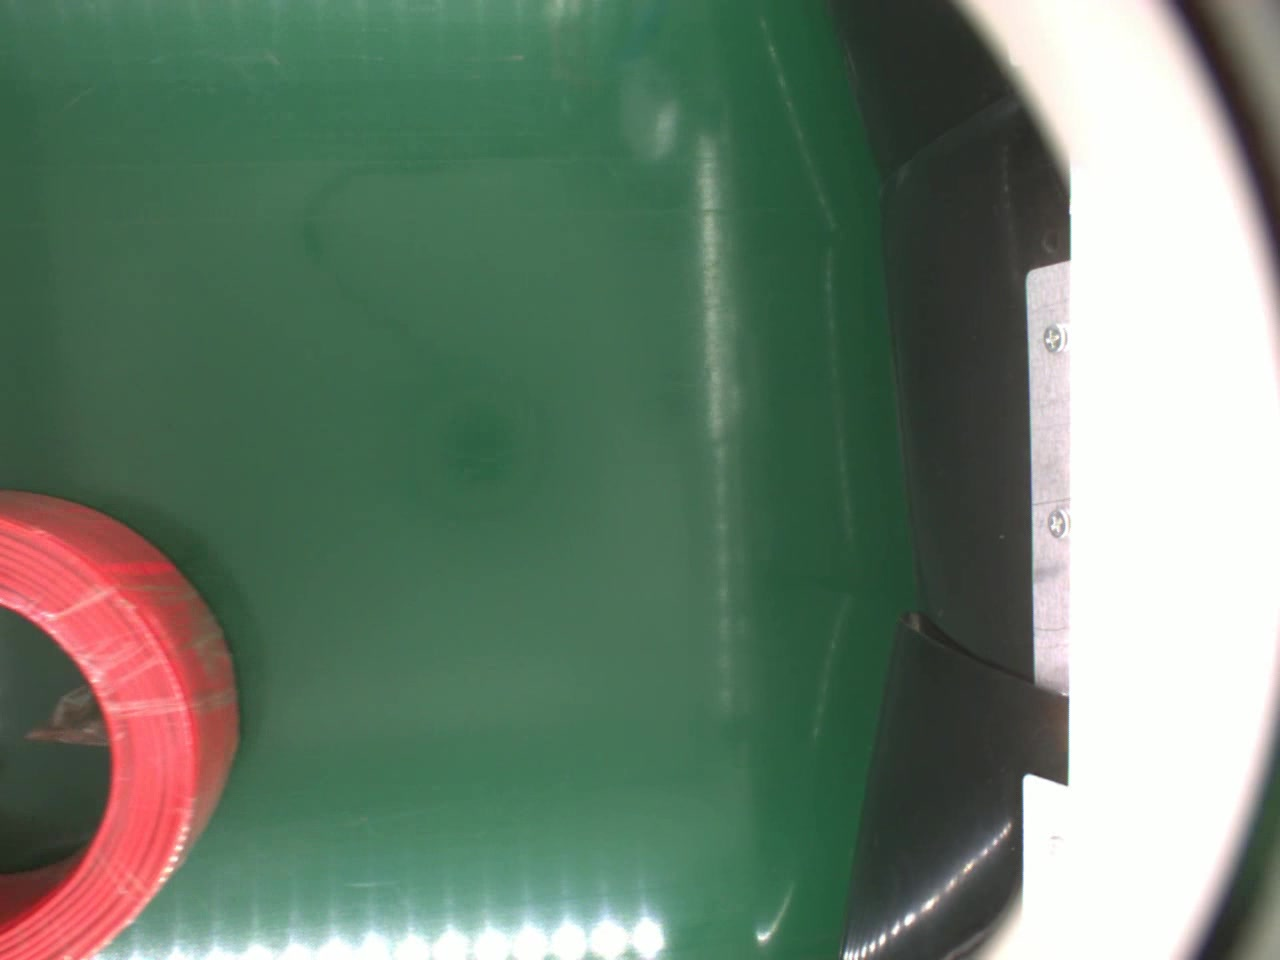red: (0, 489, 239, 960)
